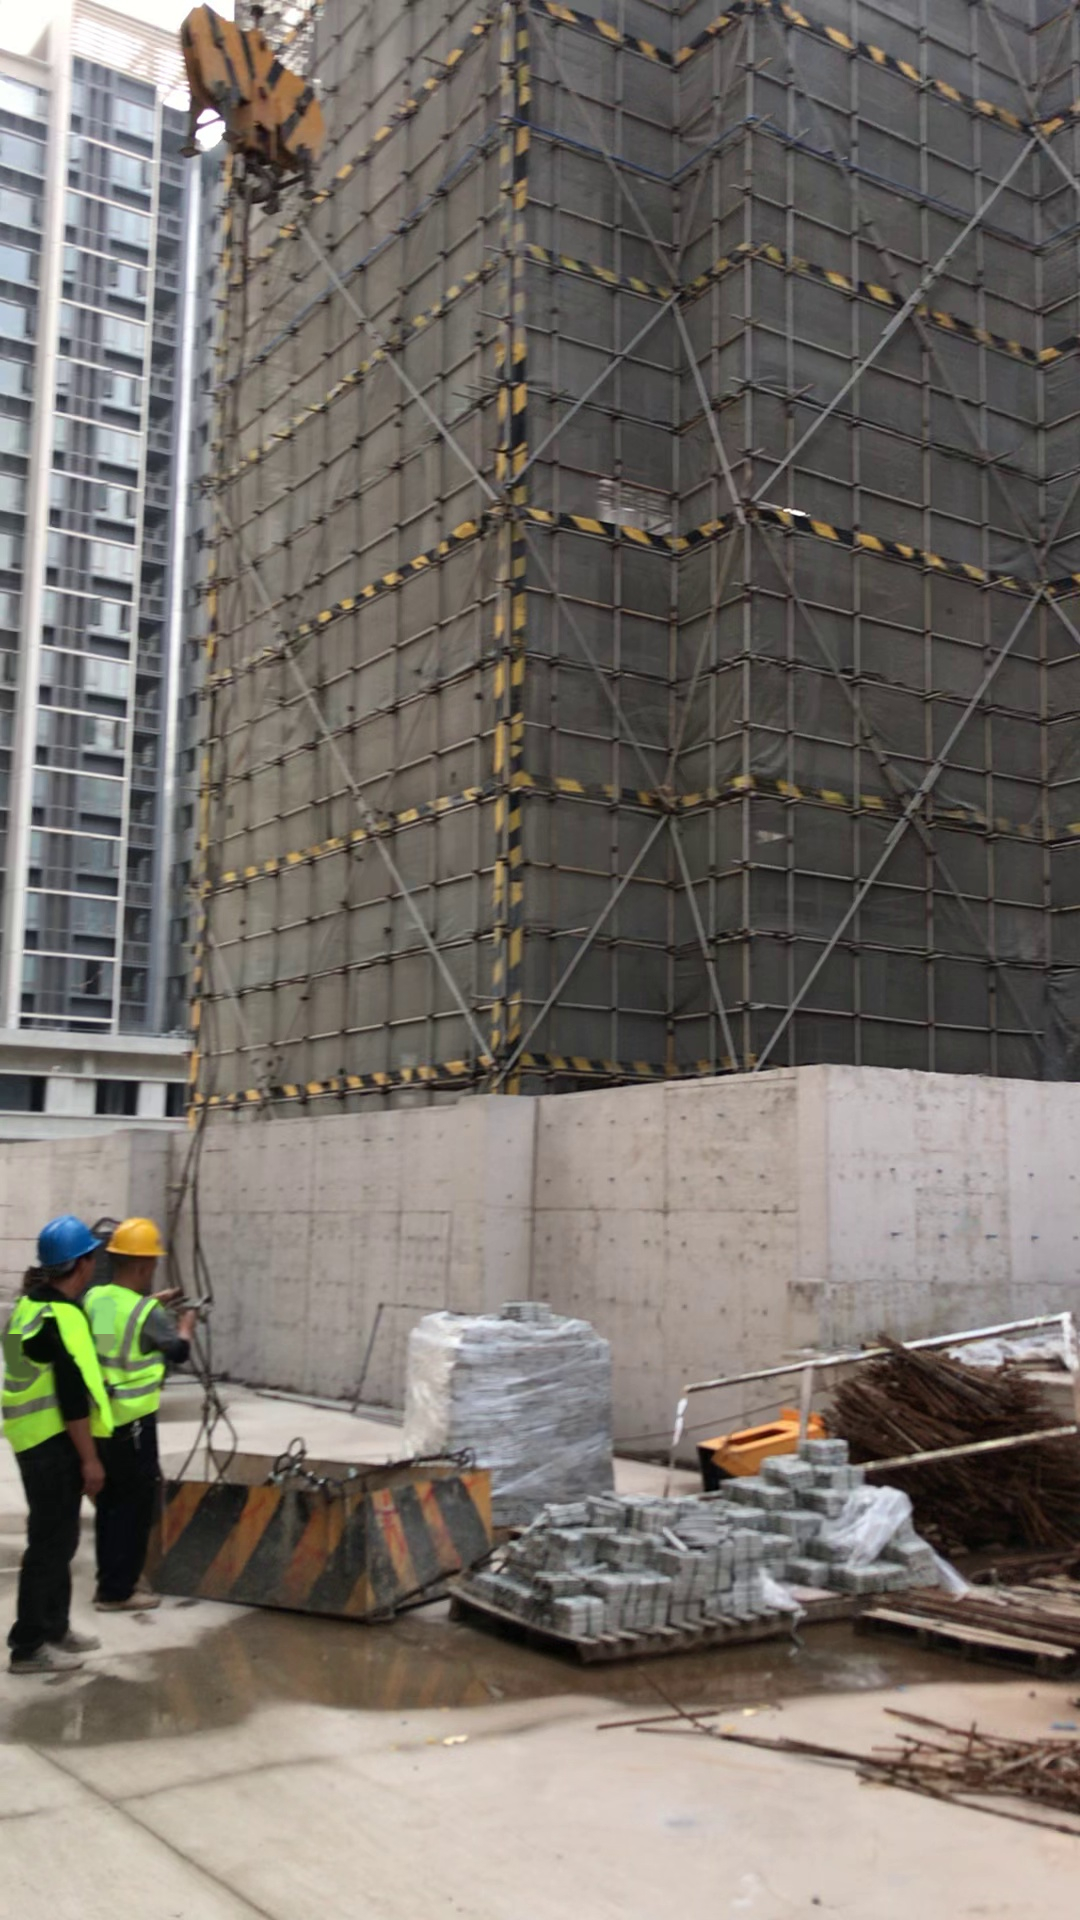helmet: (29, 1218, 103, 1262), (104, 1216, 168, 1256)
hook: (153, 5, 370, 257)
hopper: (155, 1445, 501, 1622)
person: (1, 1214, 118, 1665), (88, 1214, 214, 1621)
vest: (2, 1295, 111, 1449), (86, 1288, 163, 1432)
